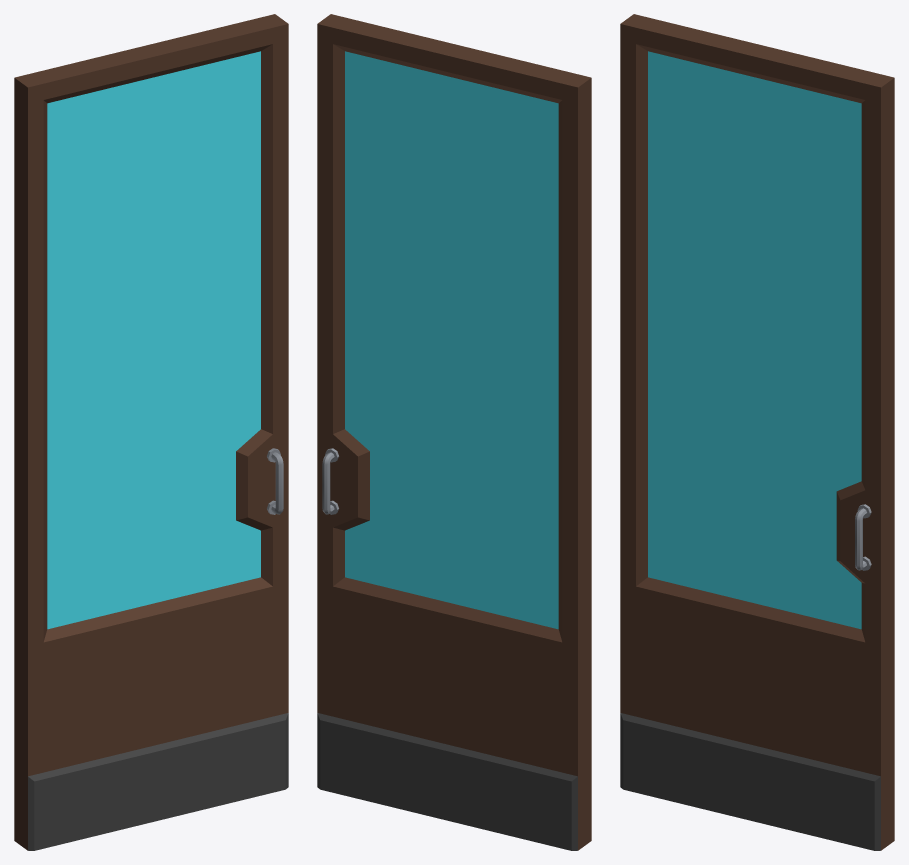
File: SM_Buildings_House_06_Door_L.fbx
3 views of the same model, side by side, from view 1: azimuth 30°, elevation 25°; view 2: azimuth 150°, elevation 25°; view 3: azimuth 330°, elevation 25° (orthographic).
Parts seen in each view (by area): view 1: SM_Buildings_House_06_Door_L; view 2: SM_Buildings_House_06_Door_L; view 3: SM_Buildings_House_06_Door_L.
Boxes of the visible parts, left/top/right/bottom form: SM_Buildings_House_06_Door_L: left=14, top=14, right=288, bottom=850; SM_Buildings_House_06_Door_L: left=317, top=14, right=591, bottom=850; SM_Buildings_House_06_Door_L: left=620, top=14, right=894, bottom=850.
Size of the model in its own units: 0.8333 by 2.33 by 0.1704.
